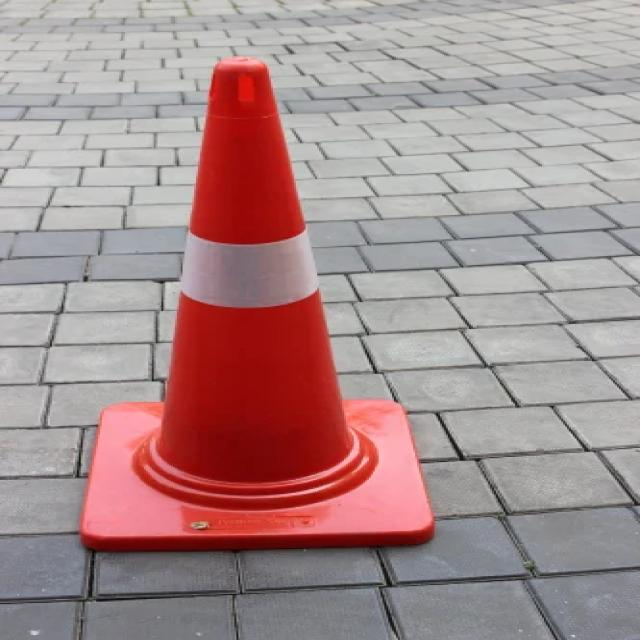Traffic Cone: (50, 33, 472, 570)
